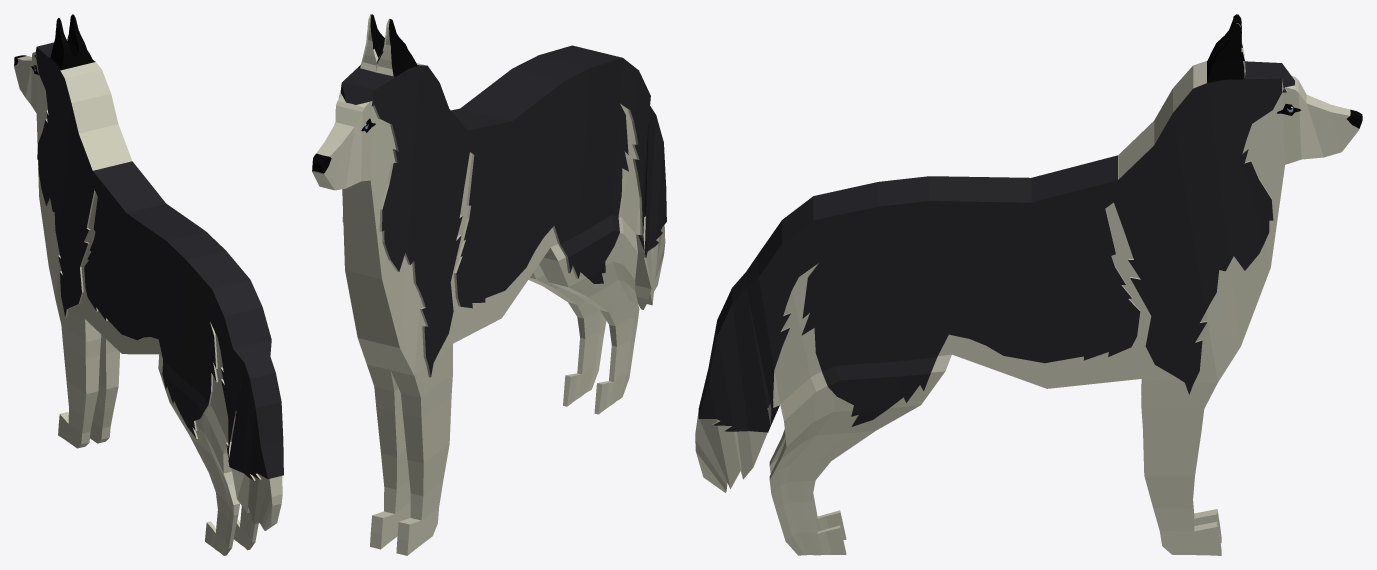
File: dog.glb
The picture shows the model from 3 angles, left to right: view 1: azimuth 30°, elevation 25°; view 2: azimuth 150°, elevation 25°; view 3: azimuth 270°, elevation 25°; orthographic projection. The views are drawn at different scales.
Visible parts, largest first — view 1: Cube_1; view 2: Cube_1; view 3: Cube_1.
Part boxes in pixels (x1,y1,x2,y2): Cube_1: [14, 14, 283, 555]; Cube_1: [312, 14, 666, 555]; Cube_1: [695, 14, 1362, 555].
Bounding box in the file's own units: 0.1356 × 1.15 × 1.32.
